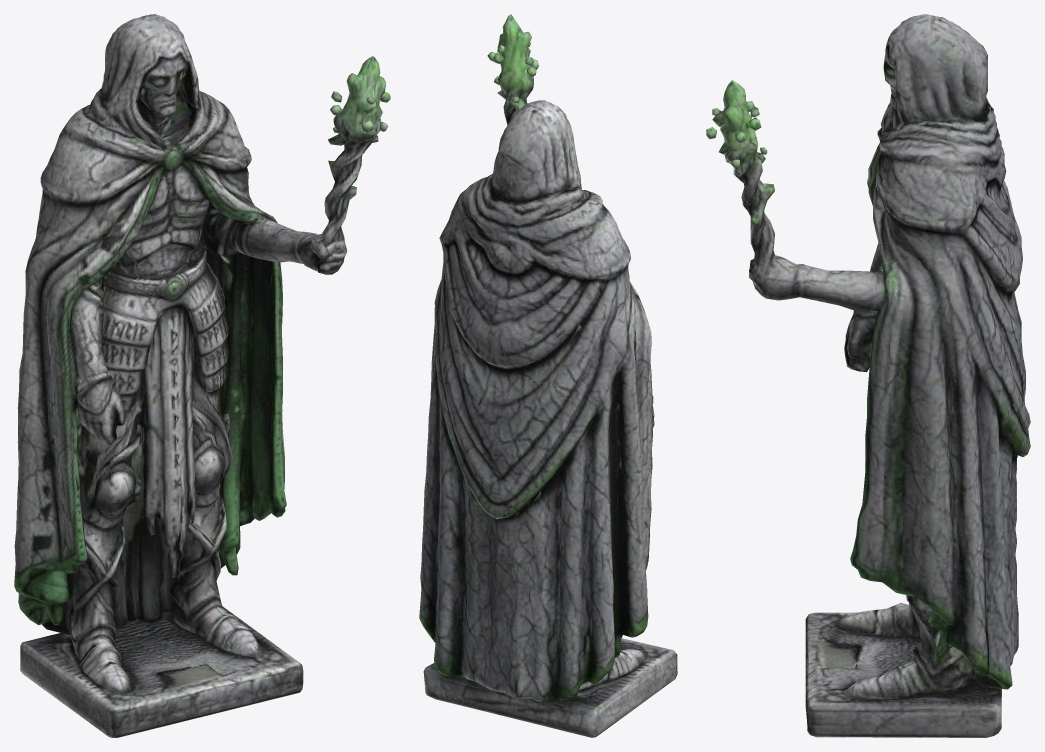
Rendered from Druid_StoneProtector.glb.
3 views of the same model, side by side, from view 1: azimuth 30°, elevation 25°; view 2: azimuth 150°, elevation 25°; view 3: azimuth 270°, elevation 25° (orthographic). The views are drawn at different scales.
Bounding box in the file's own units: 0.8376 × 1.91 × 0.8297.
1 material, 1 textured.
